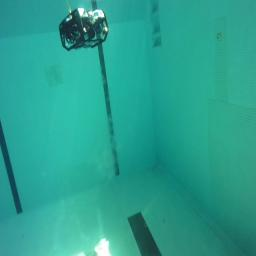front: (58, 8, 109, 52)
